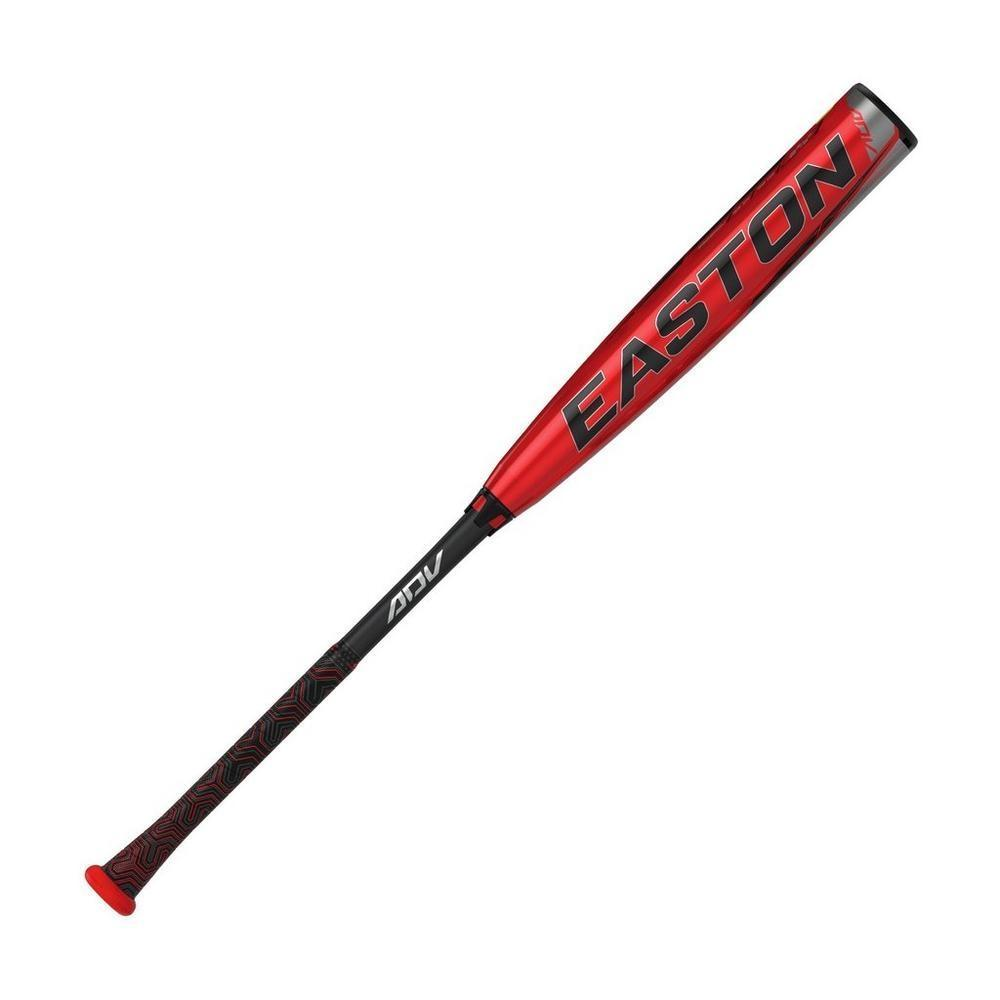Baseball-Bat: (23, 42, 998, 918)
